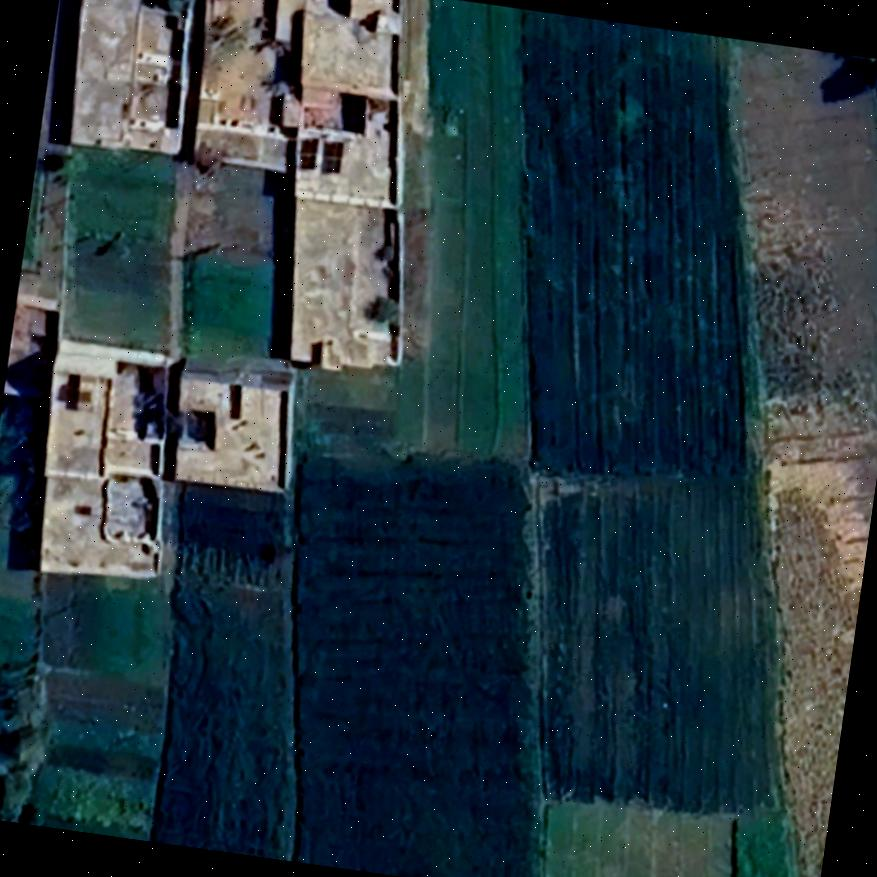Solarpanel: (316, 134, 347, 179), (290, 131, 320, 174)
